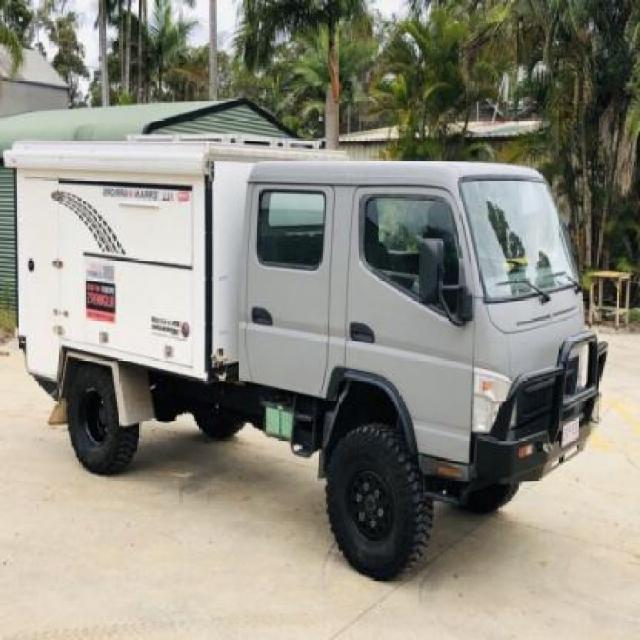truck: (6, 136, 609, 584)
